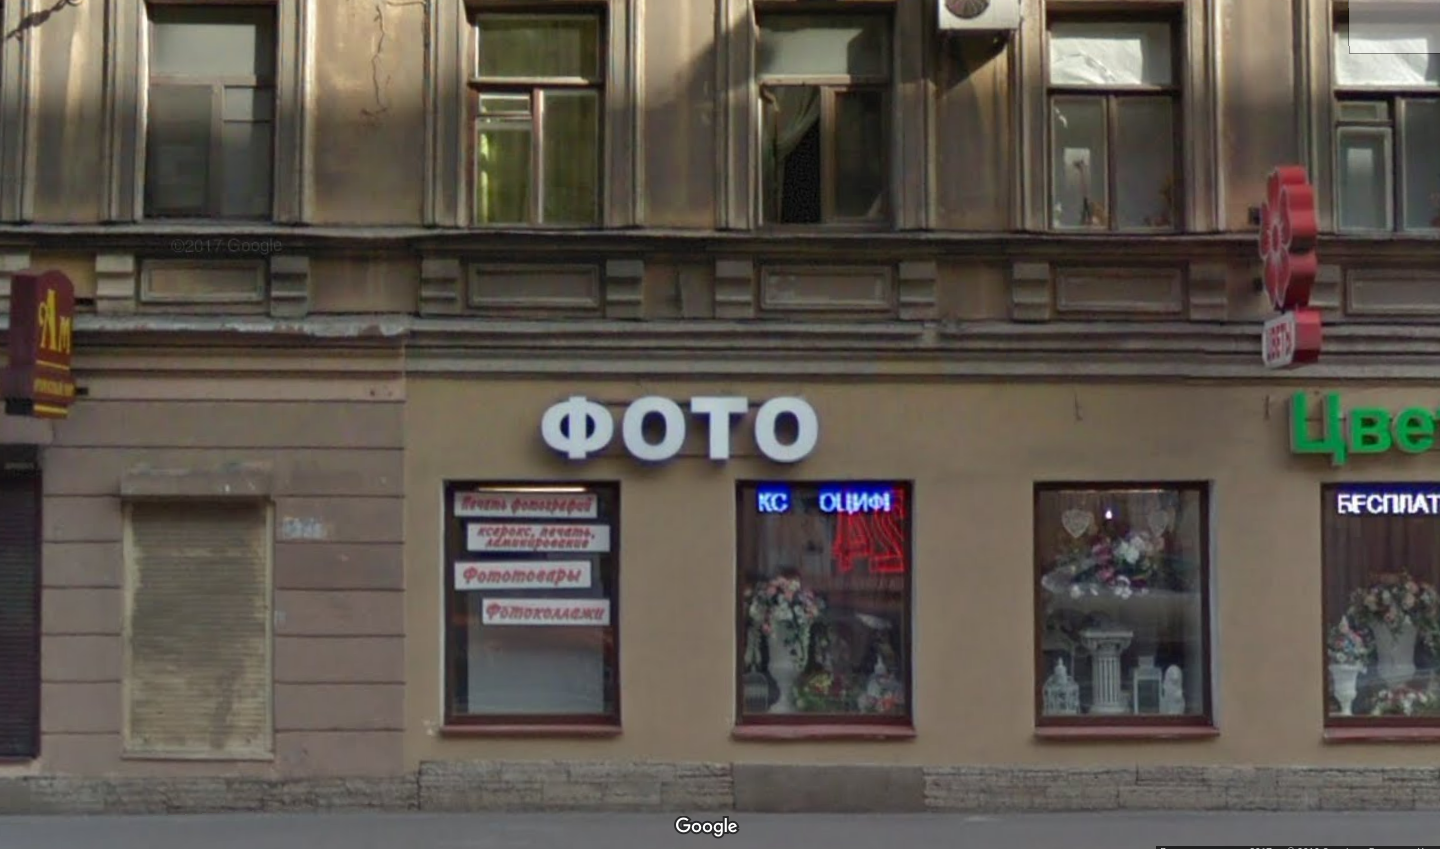cantilever: (1245, 156, 1326, 381), (1, 253, 104, 428)
signboard: (537, 383, 820, 475), (1282, 384, 1440, 478)
win_ad: (453, 487, 616, 634)
window: (1039, 480, 1214, 720), (444, 483, 613, 728), (739, 486, 914, 720), (1050, 1, 1186, 231), (759, 9, 892, 233), (472, 8, 604, 230), (1327, 484, 1436, 723), (146, 10, 270, 218), (1340, 16, 1440, 232)
